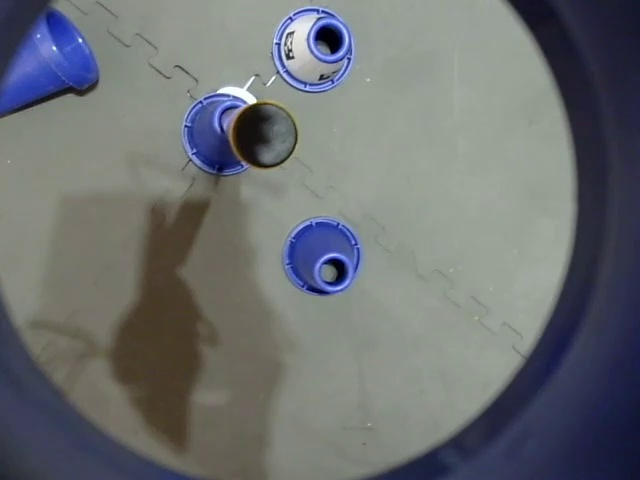tip: (231, 99, 299, 171)
